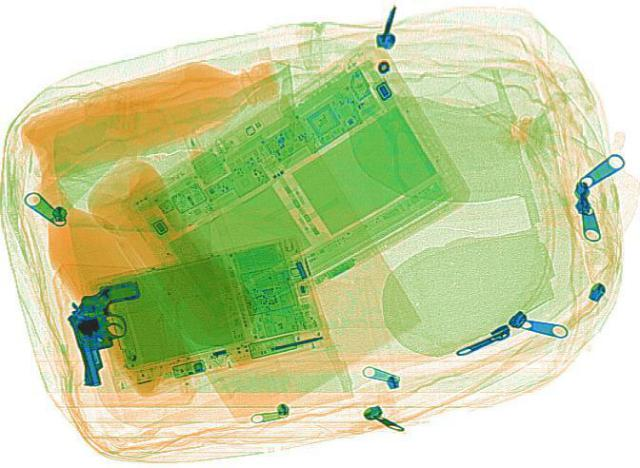Gun: (59, 279, 158, 386)
